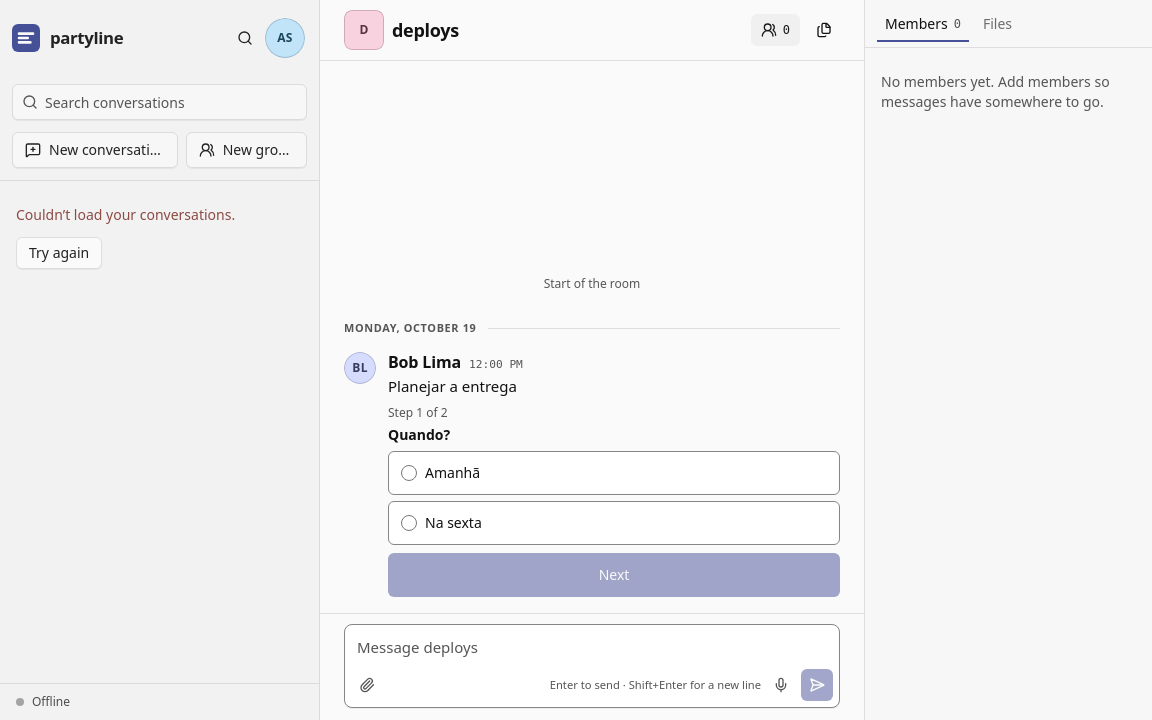
Scenario: TestFocusFollowsTheWizard › focuses the new step heading and then the summary of the sent answers
This screenshot has width=1152, height=720.
Expected: the text "Planejar a entrega" is shown, x1=388 y1=376 x2=517 y2=396
Click the radio button labelled "Na sexta" at (409, 523), box x1=401 y1=515 x2=417 y2=531
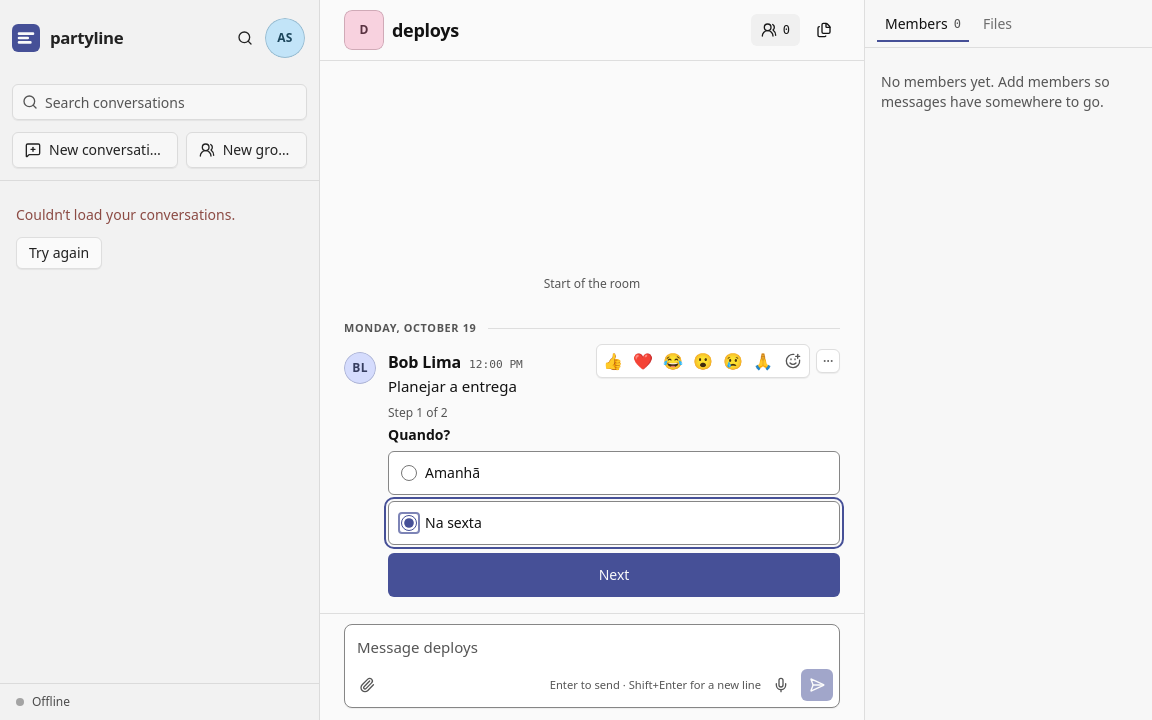
Click the button "Next" at (614, 575), box x1=388 y1=553 x2=840 y2=597
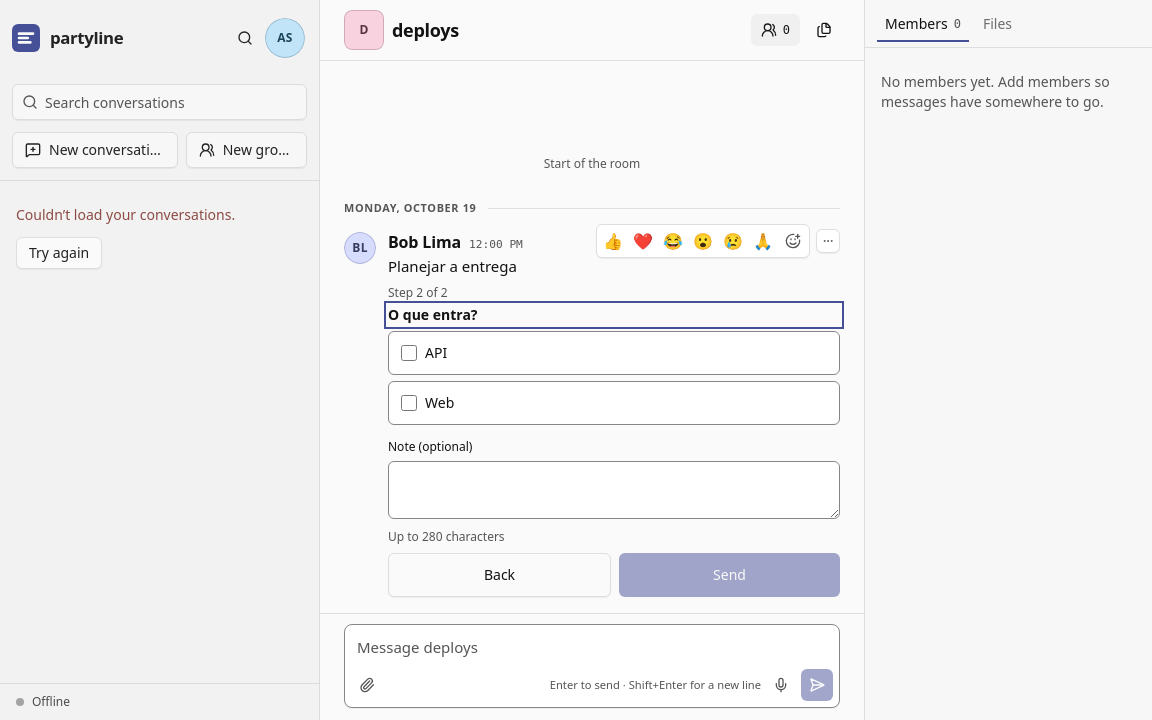
Click the checkbox labelled "API" at (409, 353), box x1=401 y1=345 x2=417 y2=361
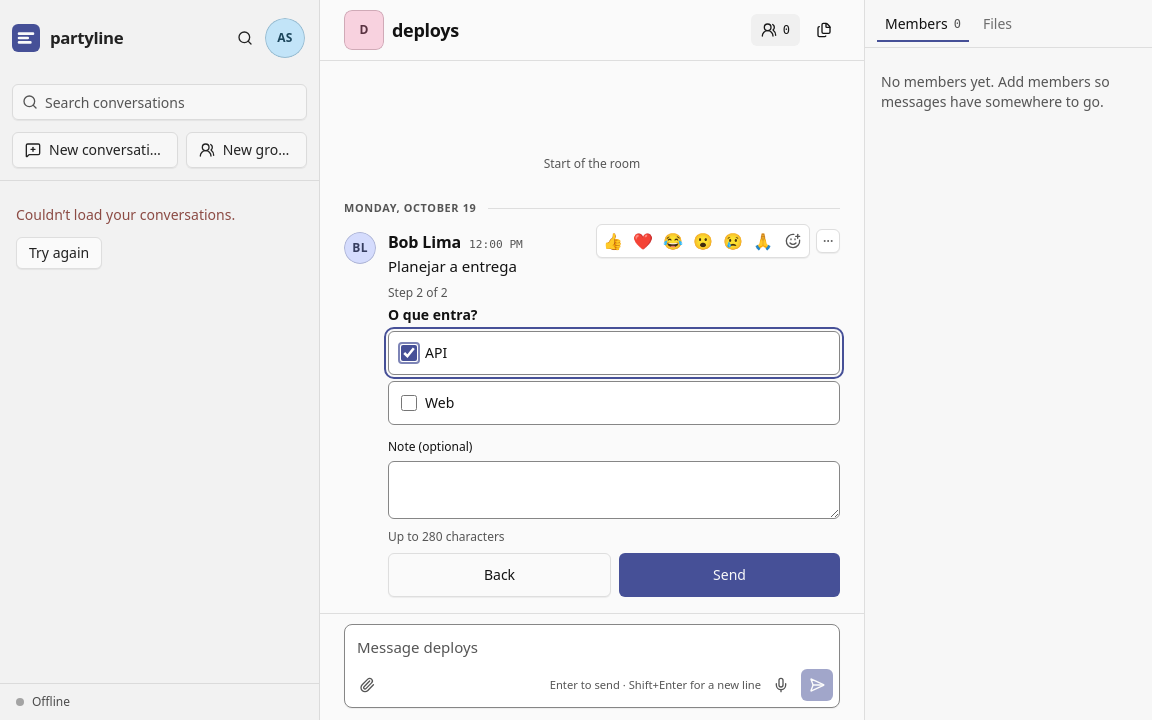
Click the checkbox labelled "Web" at (409, 403), box x1=401 y1=395 x2=417 y2=411
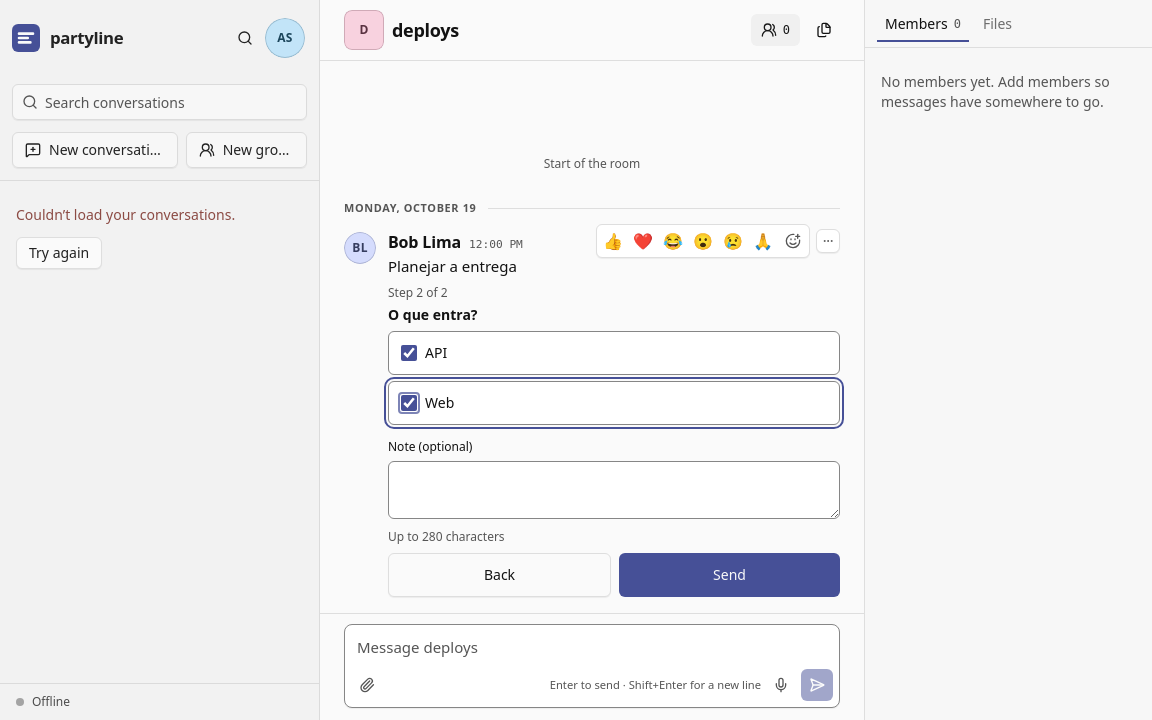
Type "antes do almoço" into the text box labelled "Note (optional)" at (614, 490), box x1=388 y1=461 x2=840 y2=519
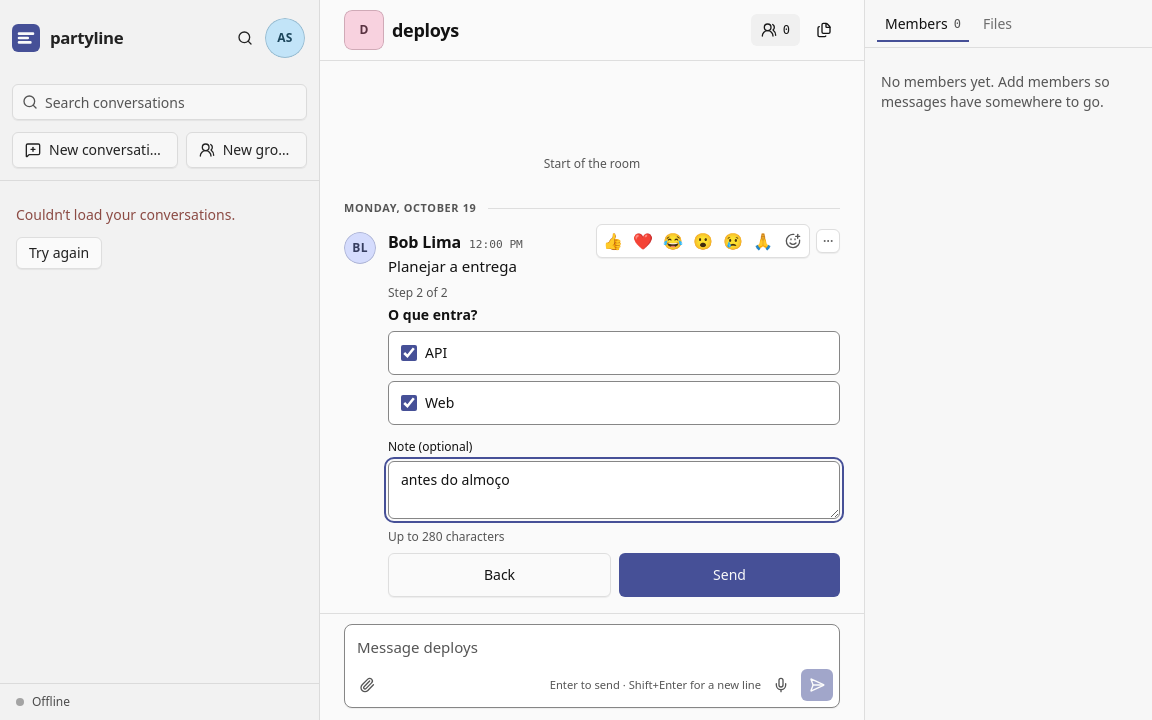
Click the button "Send" at (730, 575), box x1=619 y1=553 x2=840 y2=597
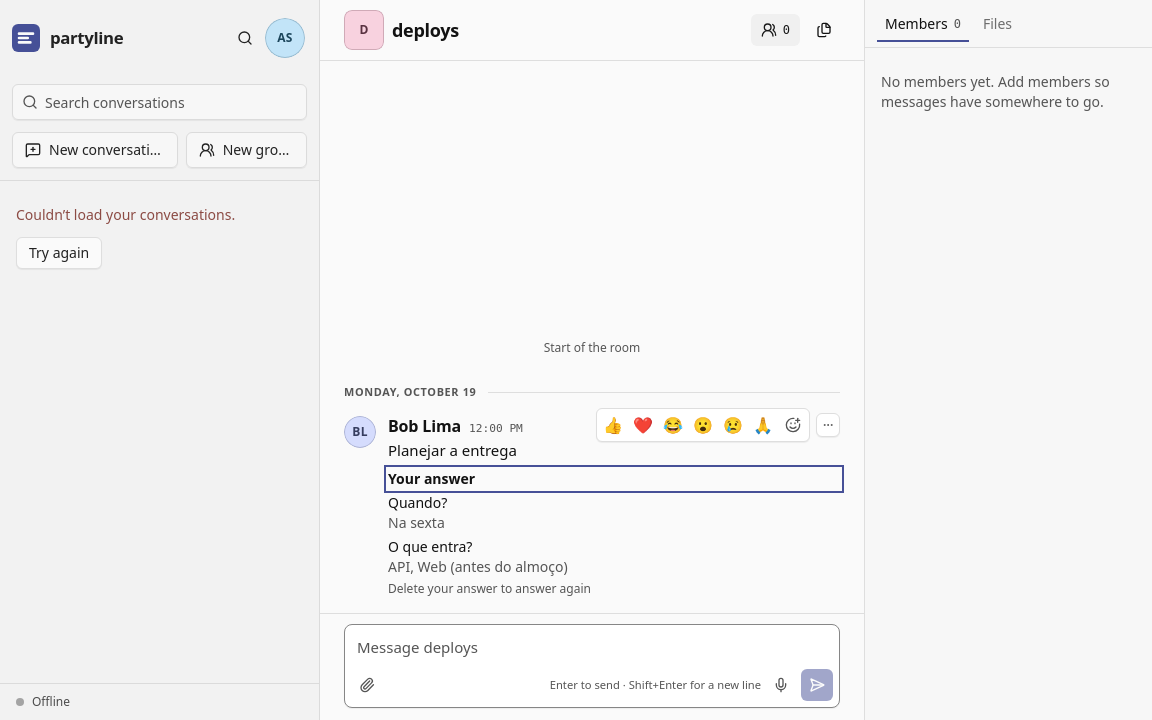
Now the text "O que entra?" is shown, box x1=388 y1=537 x2=472 y2=556
Now the text "Quando?" is shown, box x1=388 y1=493 x2=447 y2=512
Now the text "Na sexta" is shown, box x1=388 y1=513 x2=445 y2=532
